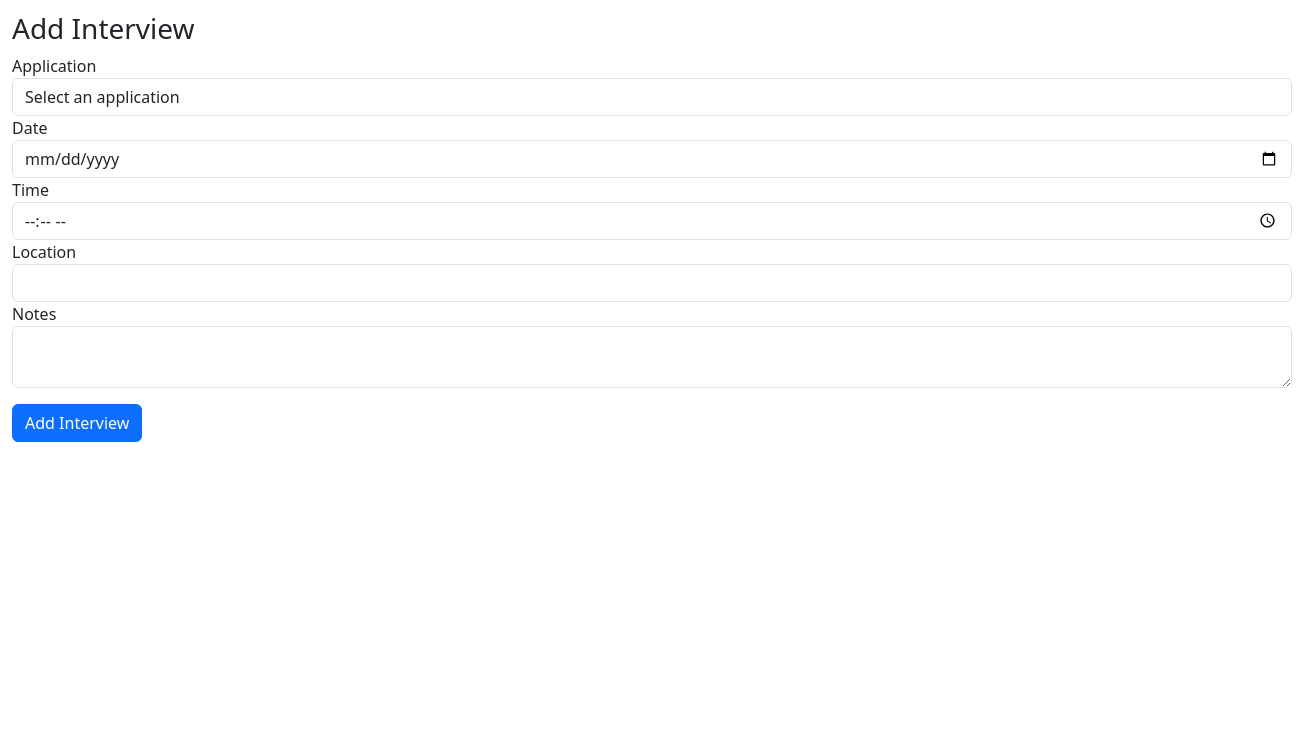
Test case: AddInterviewForm Component › displays global error on API failure
Select "Software Engineer at Tech Corp" in the dropdown labelled "Application" at x=652, y=97, box [12,78,1292,116]
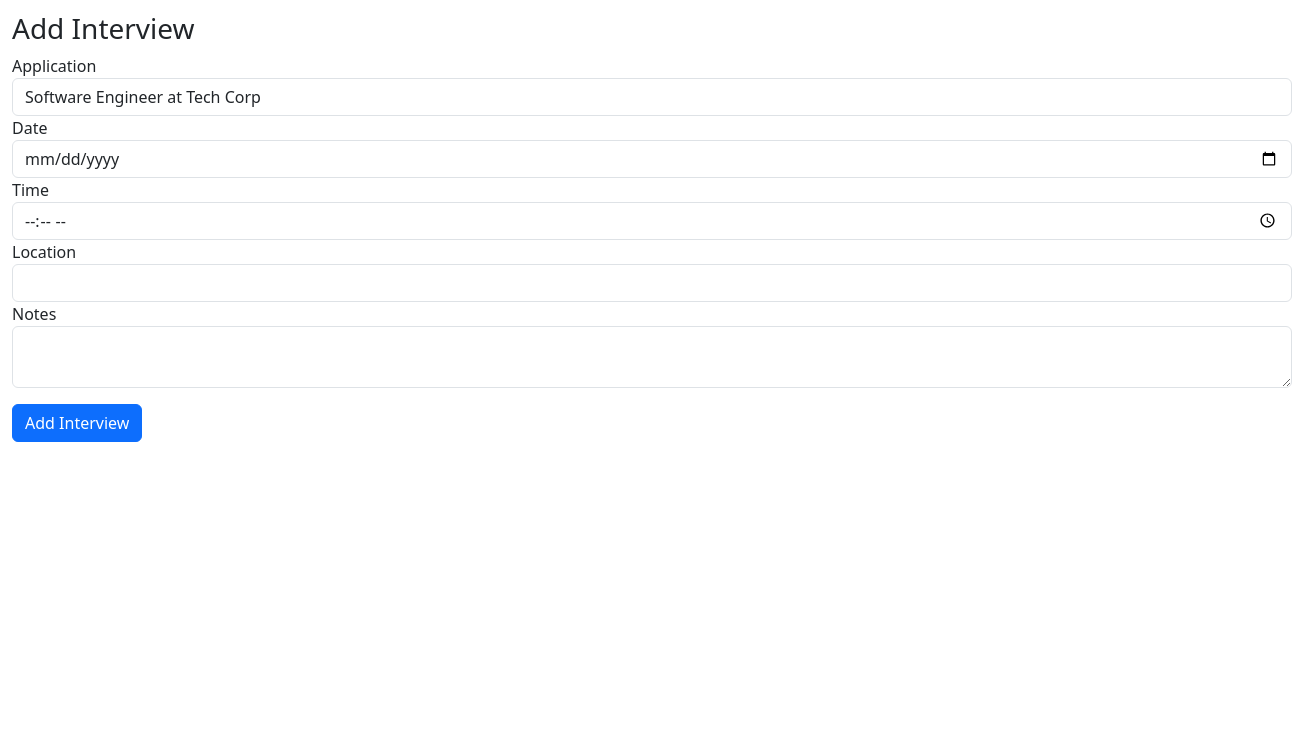
Type "2024-12-20" into the date field labelled "Date" at x=652, y=159, box [12,140,1292,178]
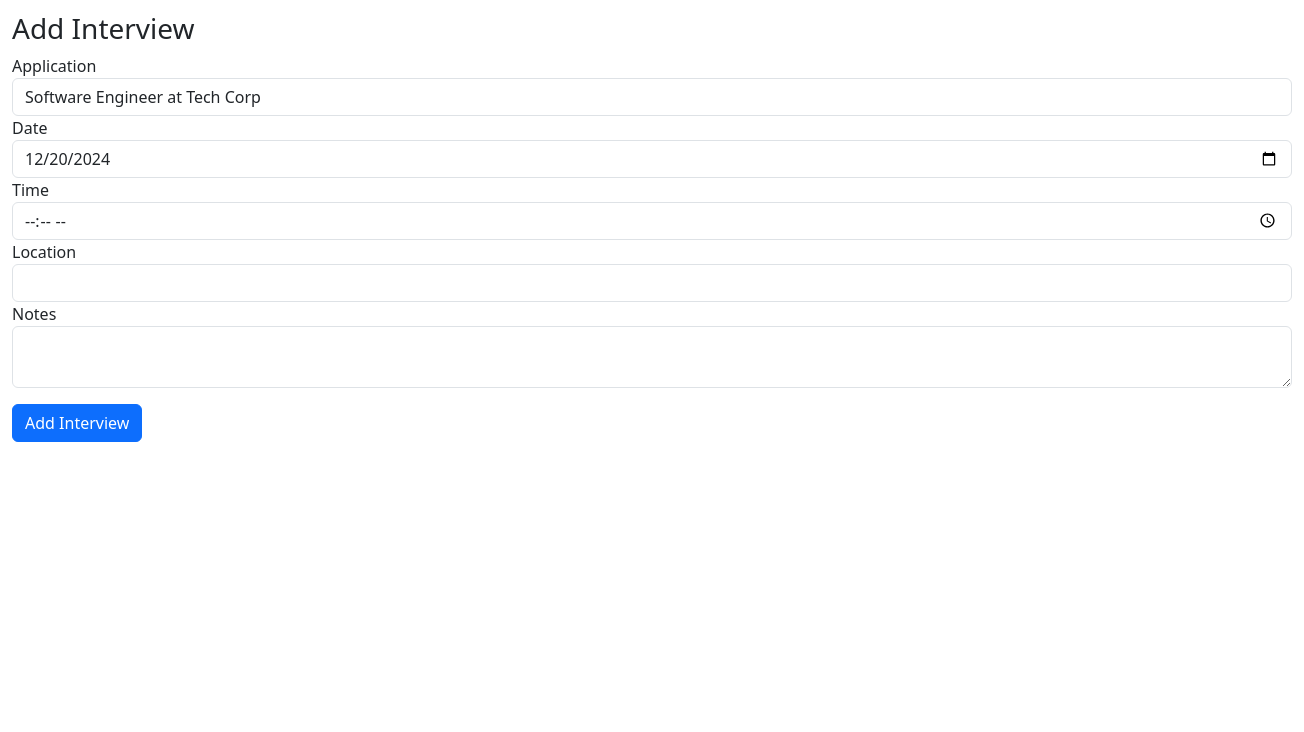
Type "10:00" into the time field labelled "Time" at x=652, y=221, box [12,202,1292,240]
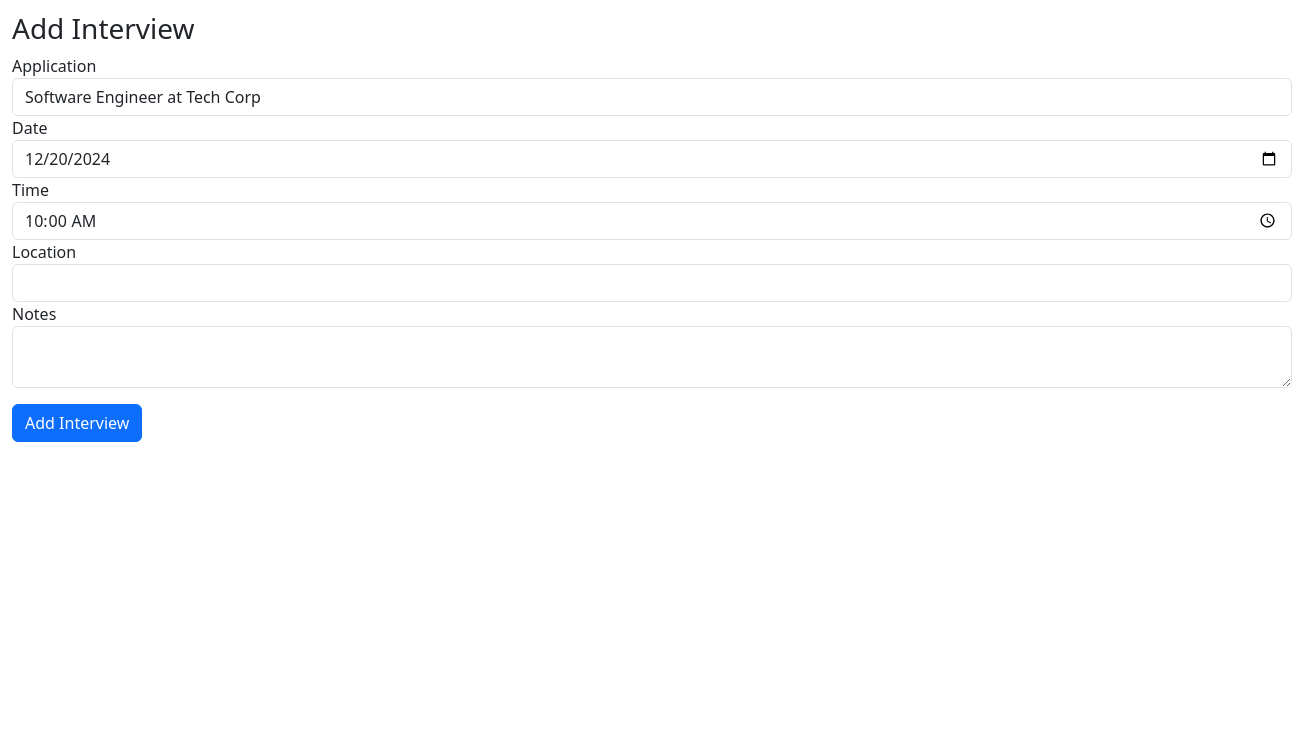
Type "Conference Room A" into the field labelled "Location" at x=652, y=283, box [12,264,1292,302]
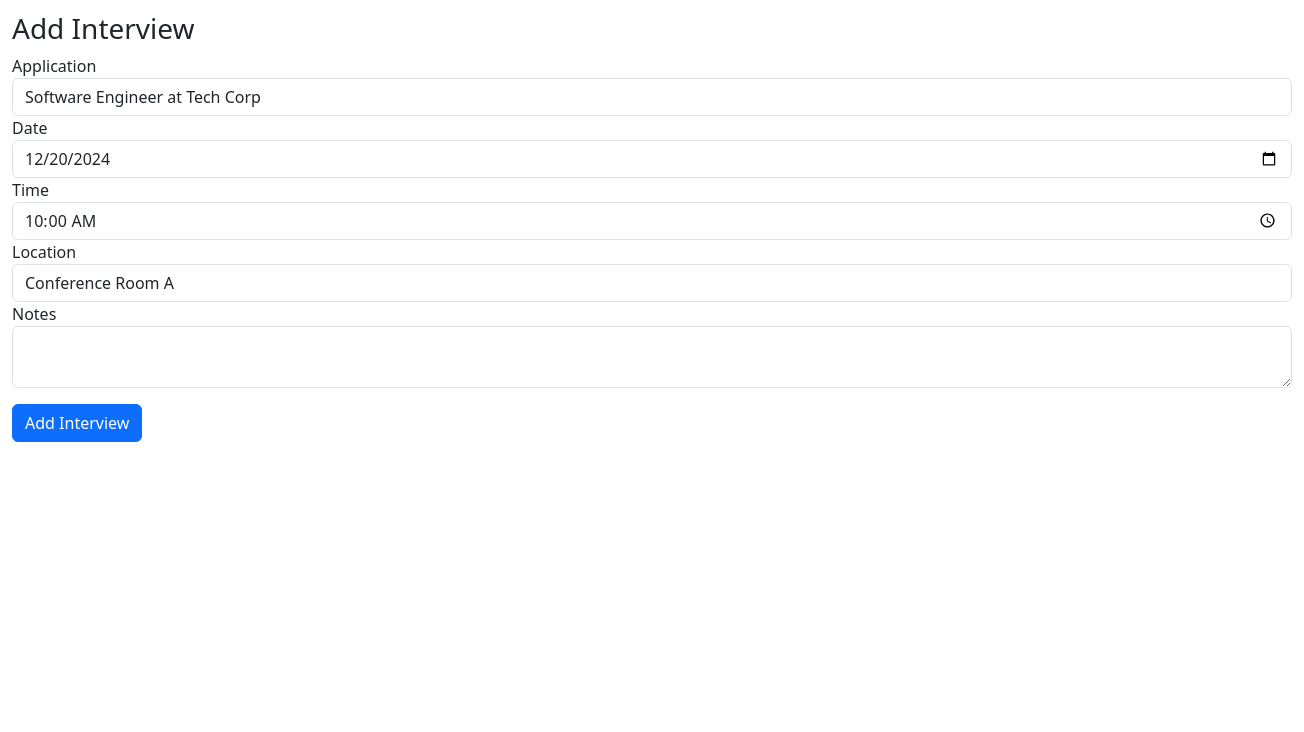
Type "Be on time" into the text box labelled "Notes" at x=652, y=357, box [12,326,1292,388]
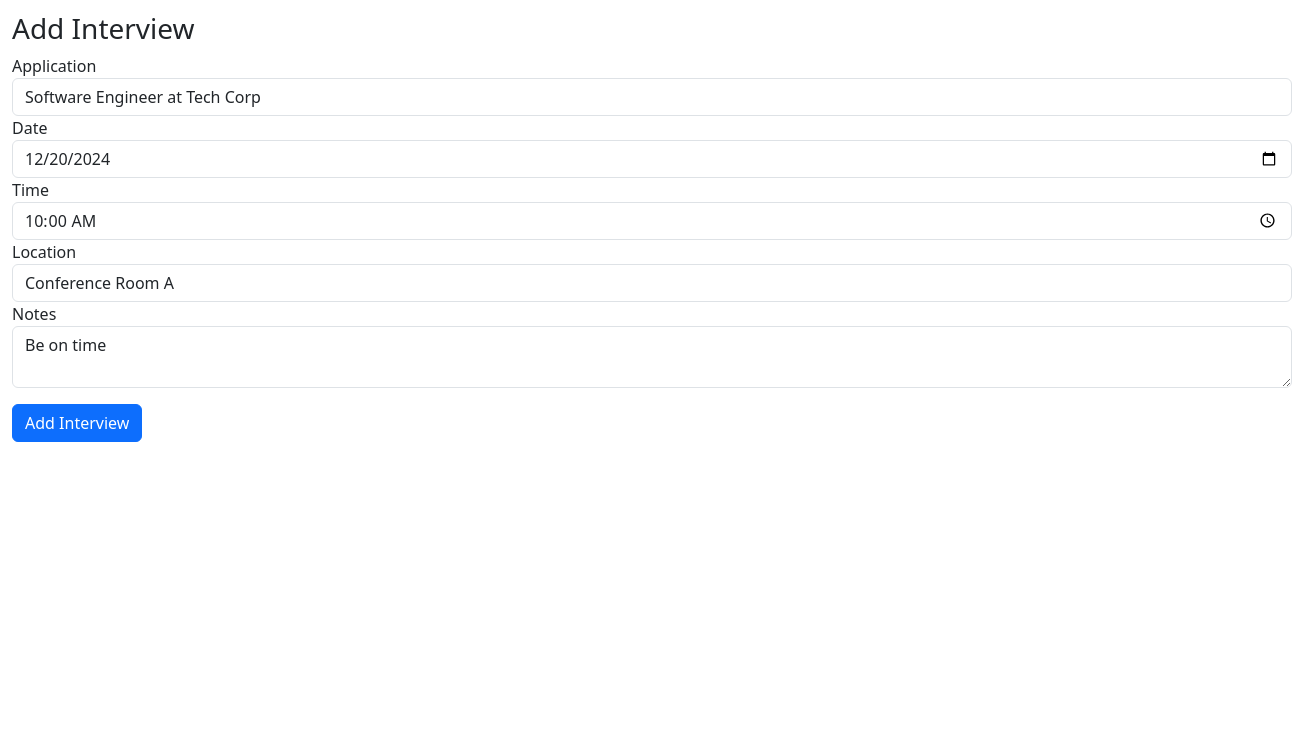
Click the button "Add Interview" at x=77, y=423, box [12,404,142,442]
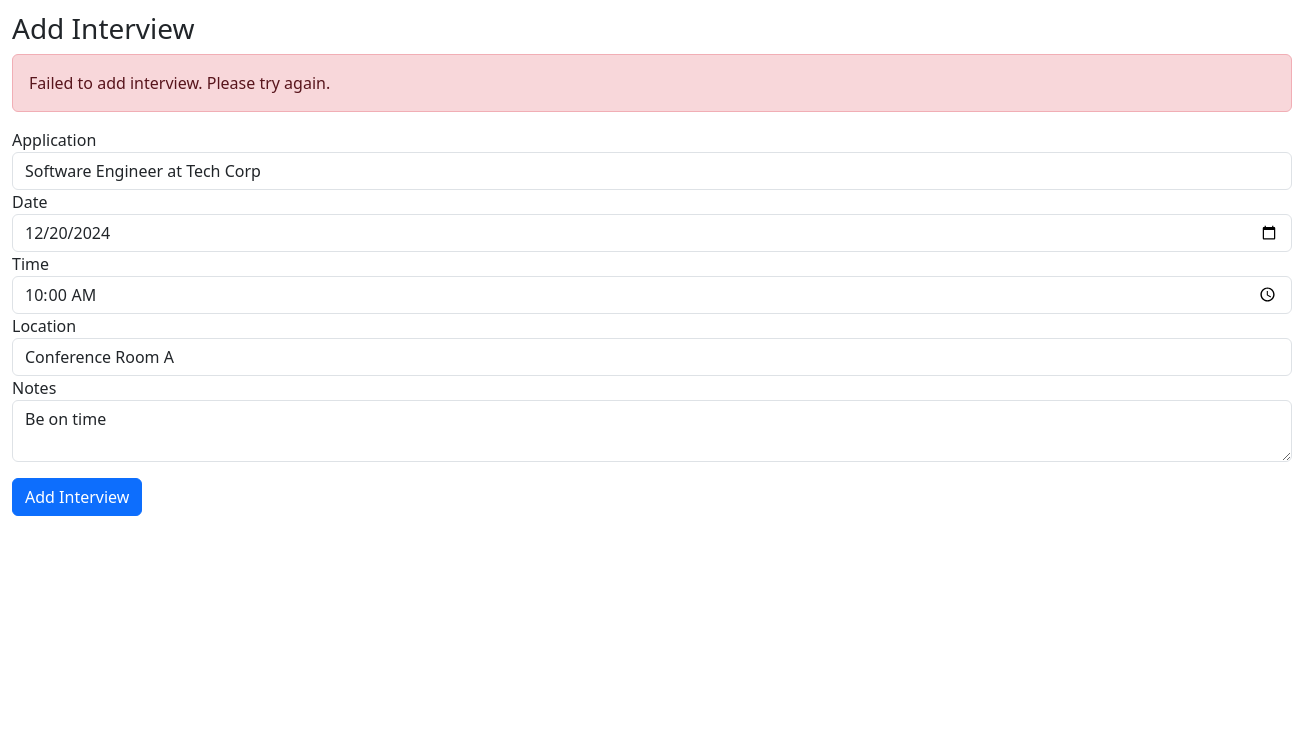
Result: the text "Failed to add interview. Please try again." is shown at [12,54,1292,112]
